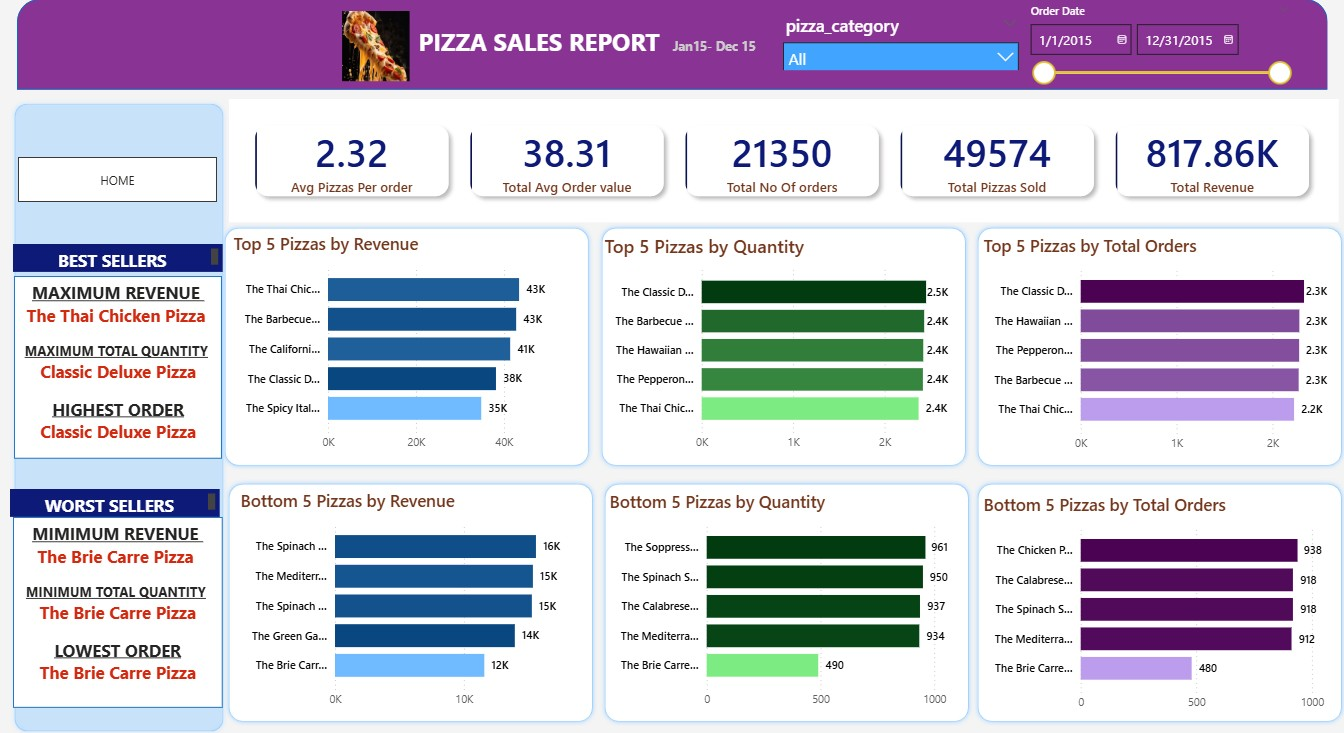

The dashboard page shown, as its layout file describes it:
{"tool":"powerbi","page":{"name":"BEST/WORST SELLERS ","canvas":[1500,820],"ordinal":1},"visuals":[{"type":"shape","box":[15,111.6,242.3,707.8],"z":0},{"type":"cardVisual","fields":{"Data":["pizza_sales_excel_file.Avg Pizzas Per order","pizza_sales_excel_file.Total Avg Order value","pizza_sales_excel_file.Total No Of orders","pizza_sales_excel_file.Total Pizzas Sold","pizza_sales_excel_file.Total Revenue"]},"box":[257.3,111.6,1233.2,137.5],"z":1000},{"type":"shape","box":[21.8,0,1456.4,100.7],"z":2000},{"type":"textbox","box":[462.8,23.1,408.3,53.1],"z":3000},{"type":"image","box":[314.4,13.6,212.3,77.6],"z":4000},{"type":"shape","box":[247.7,249.1,415,275],"z":5000},{"type":"textbox","box":[17.7,272.2,232.8,31.3],"z":6000},{"type":"textbox","box":[19.1,307.6,231.4,202.8],"z":7000},{"type":"textbox","box":[15,544.5,232.8,31.3],"z":8000},{"type":"textbox","box":[17.7,575.8,232.8,212.3],"z":9000},{"type":"slicer","fields":{"Values":["pizza_sales_excel_file.pizza_category"]},"box":[863,10.9,281.8,68.1],"z":10000},{"type":"slicer","fields":{"Values":["pizza_sales_excel_file.order_date"]},"box":[1135.2,0,311.7,111.6],"z":11000},{"type":"shape","box":[667,249.1,415.2,275],"z":12000},{"type":"shape","box":[1084.8,249.1,415.2,275],"z":13000},{"type":"shape","box":[251.8,533.6,415.2,275],"z":14000},{"type":"shape","box":[669.7,533.6,415.2,275],"z":15000},{"type":"barChart","title":"Top 5 Pizzas by Revenue ","fields":{"Category":["pizza_sales_excel_file.pizza_name"],"Y":["pizza_sales_excel_file.Total Revenue"]},"box":[257.3,258.6,387.9,251.8],"z":16000},{"type":"barChart","title":"Bottom 5 Pizzas by Revenue ","fields":{"Category":["pizza_sales_excel_file.pizza_name"],"Y":["pizza_sales_excel_file.Total Revenue"]},"box":[265.4,544.5,387.9,251.8],"z":17000},{"type":"barChart","title":"Top 5 Pizzas by Quantity ","fields":{"Category":["pizza_sales_excel_file.pizza_name"],"Y":["pizza_sales_excel_file.Total Pizzas Sold"]},"box":[669.7,260,398.8,250.5],"z":18000},{"type":"barChart","title":"Bottom 5 Pizzas by Quantity ","fields":{"Category":["pizza_sales_excel_file.pizza_name"],"Y":["pizza_sales_excel_file.Total Pizzas Sold"]},"box":[675.1,545.8,398.8,250.5],"z":19000},{"type":"barChart","title":"Top 5 Pizzas by Total Orders ","fields":{"Category":["pizza_sales_excel_file.pizza_name"],"Y":["pizza_sales_excel_file.Total No Of orders"]},"box":[1091.7,261.3,398.8,250.5],"z":20000},{"type":"shape","box":[1084.8,533.6,415.2,275],"z":21000},{"type":"barChart","title":"Bottom 5 Pizzas by Total Orders ","fields":{"Category":["pizza_sales_excel_file.pizza_name"],"Y":["pizza_sales_excel_file.Total No Of orders"]},"box":[1091.7,548.5,398.8,250.5],"z":22000},{"type":"pageNavigator","box":[23.1,175.6,221.9,50.4],"z":23000}]}

Visuals, with their boxes in screenshot pixels (x1, y1, x2, y2), scaled from the page's 1500x820 canvas onto the 1344x733 screenshot:
shape: [13, 100, 231, 732]
cardVisual - pizza_sales_excel_file.Avg Pizzas Per order x pizza_sales_excel_file.Total Avg Order value: [231, 100, 1335, 223]
shape: [20, 0, 1324, 90]
textbox: [415, 21, 781, 68]
image: [282, 12, 472, 82]
shape: [222, 223, 594, 468]
textbox: [16, 243, 224, 271]
textbox: [17, 275, 224, 456]
textbox: [13, 487, 222, 515]
textbox: [16, 515, 224, 704]
slicer - pizza_sales_excel_file.pizza_category: [773, 10, 1026, 71]
slicer - pizza_sales_excel_file.order_date: [1017, 0, 1296, 100]
shape: [598, 223, 970, 468]
shape: [972, 223, 1343, 468]
shape: [226, 477, 598, 723]
shape: [600, 477, 972, 723]
"Top 5 Pizzas by Revenue " barChart: [231, 231, 578, 456]
"Bottom 5 Pizzas by Revenue " barChart: [238, 487, 585, 712]
"Top 5 Pizzas by Quantity " barChart: [600, 232, 957, 456]
"Bottom 5 Pizzas by Quantity " barChart: [605, 488, 962, 712]
"Top 5 Pizzas by Total Orders " barChart: [978, 234, 1335, 457]
shape: [972, 477, 1343, 723]
"Bottom 5 Pizzas by Total Orders " barChart: [978, 490, 1335, 714]
pageNavigator: [21, 157, 220, 202]
